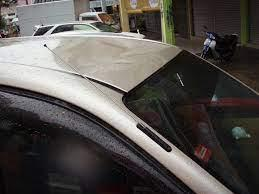roof-dent: (1, 32, 176, 106)
